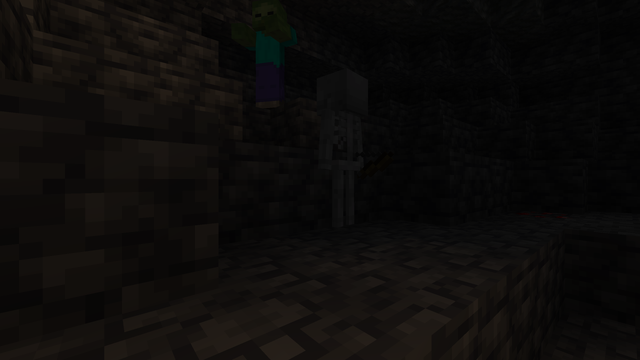squelettes: (311, 66, 373, 231)
zombies: (249, 2, 291, 110)
